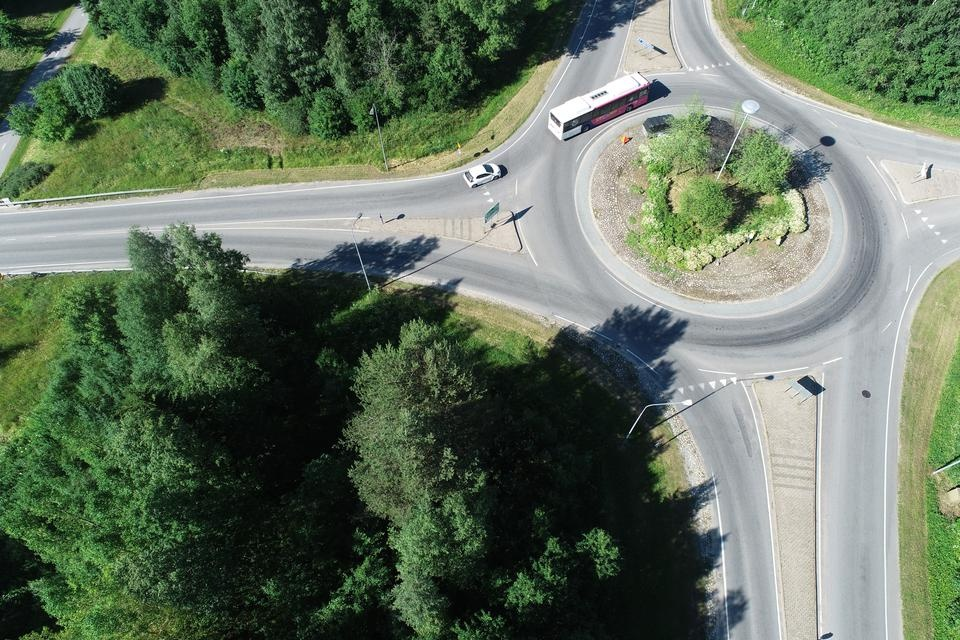roundabout: (440, 0, 939, 420)
